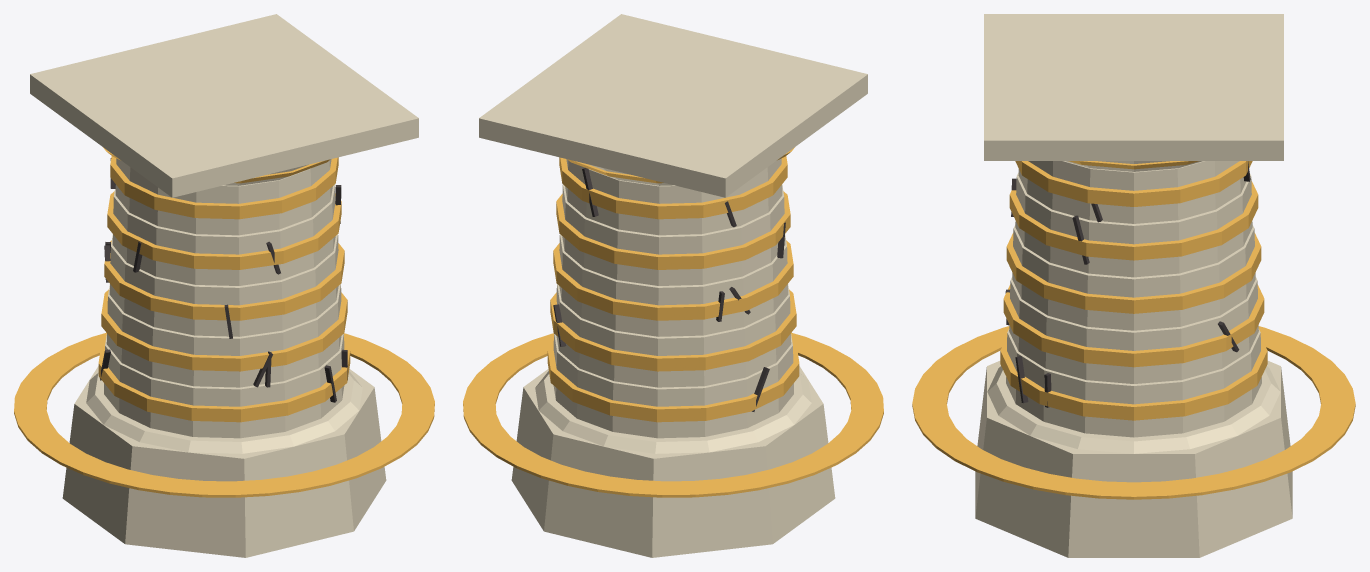
The model's file is DreadholdPillar.fbx.
3 renders of one model, left to right at view 1: azimuth 30°, elevation 25°; view 2: azimuth 150°, elevation 25°; view 3: azimuth 270°, elevation 25°, orthographic. The views are drawn at different scales.
Visible parts, largest first — view 1: Capital, Base, GlowRing, Drum_0, Drum_1, Drum_2, Drum_3, Drum_4, Drum_0_Damaged; view 2: Capital, Base, GlowRing, Drum_0, Drum_1, Drum_2, Drum_3, Drum_4, Drum_0_Damaged; view 3: Capital, Base, GlowRing, Drum_0, Drum_1, Drum_2, Drum_3, Drum_4, Drum_0_Damaged.
Boxes of the visible parts, bbox=[...] form: Capital: bbox=[30, 14, 418, 197]; Base: bbox=[62, 366, 386, 557]; GlowRing: bbox=[14, 332, 434, 497]; Drum_0: bbox=[98, 334, 350, 438]; Drum_1: bbox=[101, 284, 347, 387]; Drum_2: bbox=[104, 234, 344, 336]; Drum_3: bbox=[107, 184, 341, 285]; Drum_4: bbox=[110, 156, 338, 235]; Drum_0_Damaged: bbox=[99, 339, 348, 408]; Capital: bbox=[479, 14, 867, 197]; Base: bbox=[511, 366, 835, 557]; GlowRing: bbox=[463, 332, 883, 497]; Drum_0: bbox=[547, 334, 799, 438]; Drum_1: bbox=[550, 284, 796, 387]; Drum_2: bbox=[553, 234, 793, 336]; Drum_3: bbox=[556, 184, 790, 285]; Drum_4: bbox=[559, 156, 787, 235]; Drum_0_Damaged: bbox=[606, 335, 798, 411]; Capital: bbox=[984, 14, 1283, 171]; Base: bbox=[975, 361, 1292, 557]; GlowRing: bbox=[912, 326, 1355, 499]; Drum_0: bbox=[1000, 329, 1267, 437]; Drum_1: bbox=[1003, 277, 1264, 383]; Drum_2: bbox=[1006, 225, 1261, 330]; Drum_3: bbox=[1009, 172, 1258, 277]; Drum_4: bbox=[1015, 161, 1252, 223]; Drum_0_Damaged: bbox=[1015, 356, 1140, 407].
Bounding box in the file's own units: 7.1 × 7.31 × 7.1.
